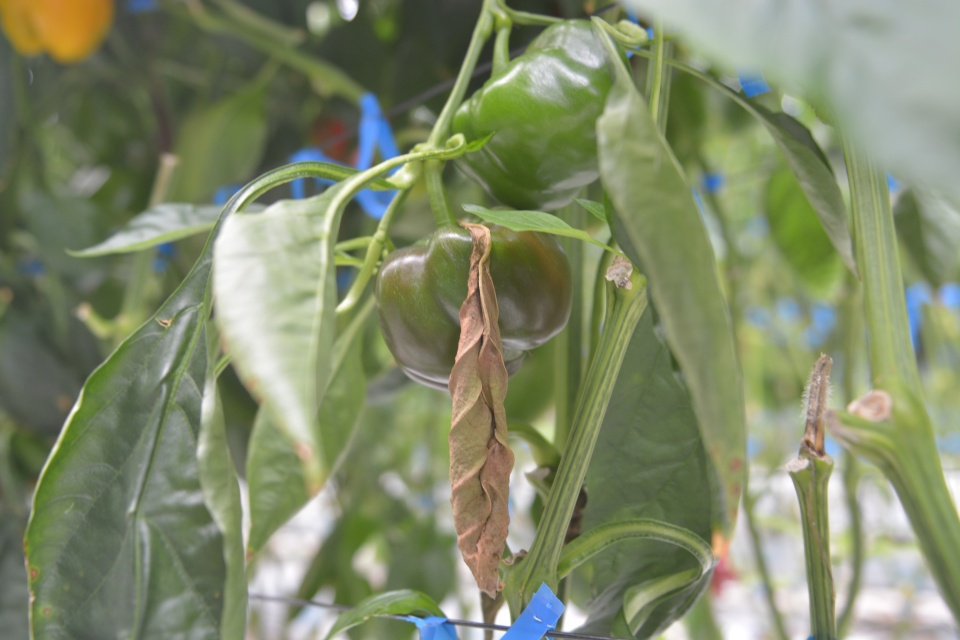fruit: (373, 207, 575, 398), (447, 16, 632, 215), (0, 0, 111, 64)
